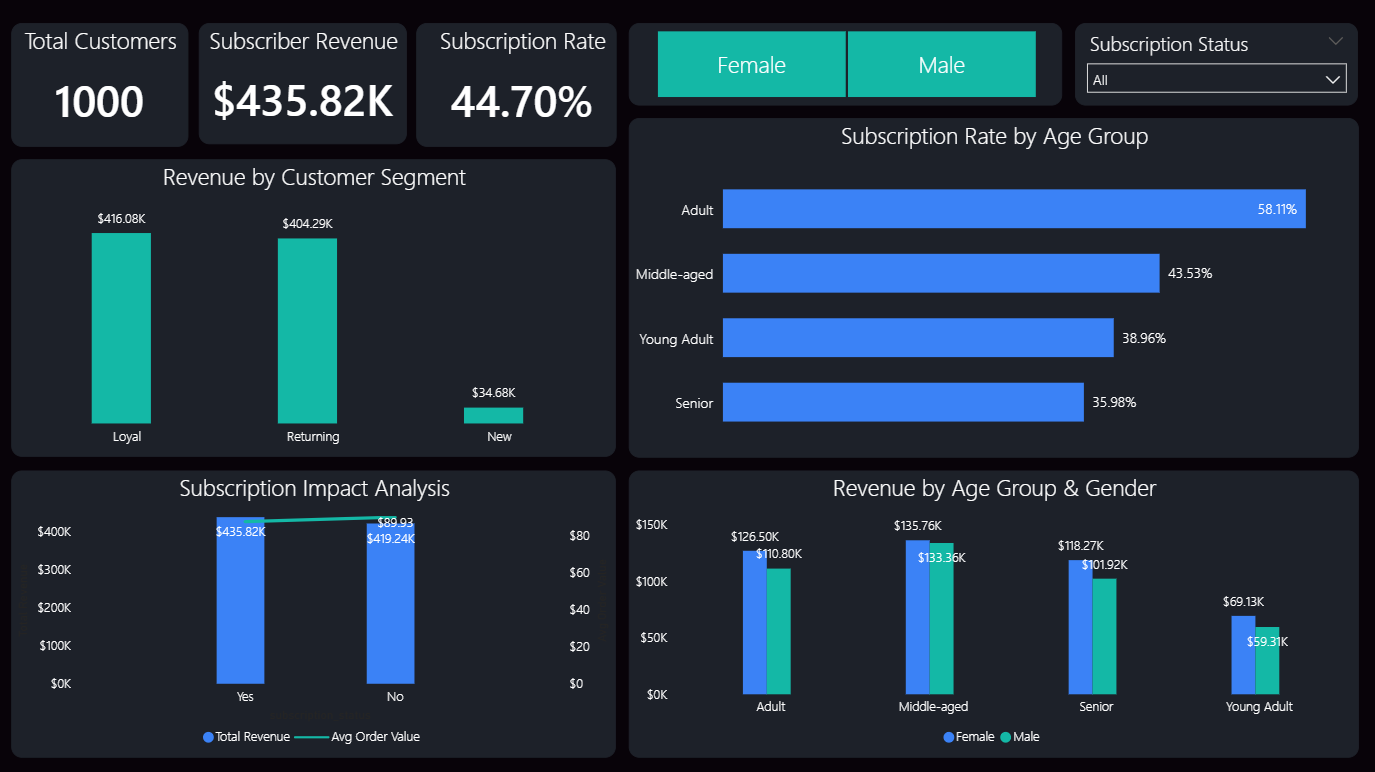

The page's visual inventory and layout, read from the dashboard file:
{"tool":"powerbi","page":{"name":"Customer Intelligence","canvas":[1280,720],"ordinal":1},"visuals":[{"type":"card","title":"Total Customers","fields":{"Values":["Measure Table.Total Customers"]},"box":[11,23.3,164.7,115.3],"z":0},{"type":"card","title":"Subscriber Revenue","fields":{"Values":["Measure Table.Subscriber Revenue"]},"box":[184.8,23.3,193.5,112.5],"z":1000},{"type":"card","title":"Subscription Rate","fields":{"Values":["Measure Table.Subscription Rate %"]},"box":[387.4,23.3,186.6,115.3],"z":2000},{"type":"lineClusteredColumnComboChart","title":"Subscription Impact Analysis","fields":{"Category":["Dim_Customer.subscription_status"],"Y":["Measure Table.Total Revenue"],"Y2":["Measure Table.Avg Order Value"]},"box":[11,439.1,562.6,267.6],"z":3000},{"type":"columnChart","title":"Revenue by Customer Segment ","fields":{"Category":["Dim_Customer.Customer Segment"],"Y":["Measure Table.Total Revenue"]},"box":[11,149.6,562.6,277.2],"z":4000},{"type":"slicer","fields":{"Values":["Dim_Customer.gender"]},"box":[584.6,23.3,403.4,76.8],"z":5000},{"type":"slicer","fields":{"Values":["Dim_Customer.subscription_status"]},"box":[1000.3,23.3,263.5,76.8],"z":6000},{"type":"clusteredColumnChart","title":"Revenue by Age Group & Gender","fields":{"Category":["Dim_Customer.age_group"],"Y":["Measure Table.Total Revenue"],"Series":["Dim_Customer.gender"]},"box":[584.6,439.1,679.2,267.6],"z":7000},{"type":"clusteredBarChart","title":"Subscription Rate by Age Group","fields":{"Category":["Dim_Customer.age_group"],"Y":["Measure Table.Subscription Rate %"]},"box":[584.6,111.1,679,315.6],"z":8000}]}

Visuals, with their boxes in screenshot pixels (x1, y1, x2, y2), scaled from the page's 1280x720 canvas onto the 1375x772 screenshot:
"Total Customers" card: box(12, 25, 189, 149)
"Subscriber Revenue" card: box(199, 25, 406, 146)
"Subscription Rate" card: box(416, 25, 617, 149)
"Subscription Impact Analysis" lineClusteredColumnComboChart: box(12, 471, 616, 758)
"Revenue by Customer Segment " columnChart: box(12, 160, 616, 458)
slicer - Dim_Customer.gender: box(628, 25, 1061, 107)
slicer - Dim_Customer.subscription_status: box(1075, 25, 1358, 107)
"Revenue by Age Group & Gender" clusteredColumnChart: box(628, 471, 1358, 758)
"Subscription Rate by Age Group" clusteredBarChart: box(628, 119, 1357, 458)
